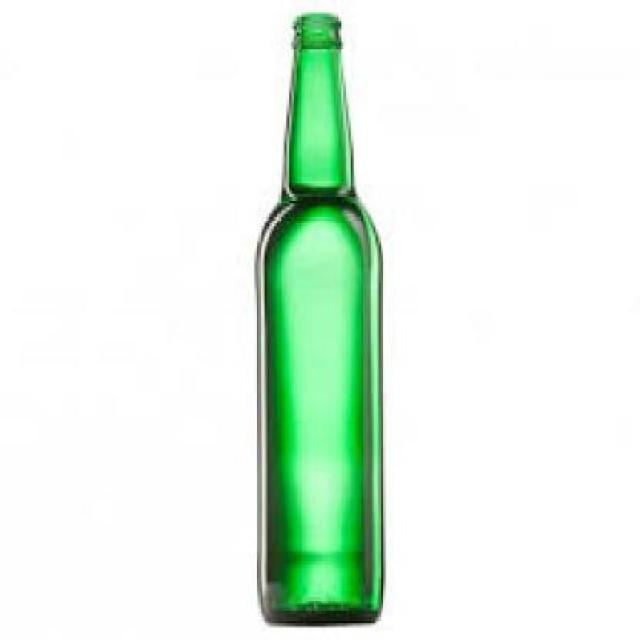GLASS: (254, 10, 380, 624)
